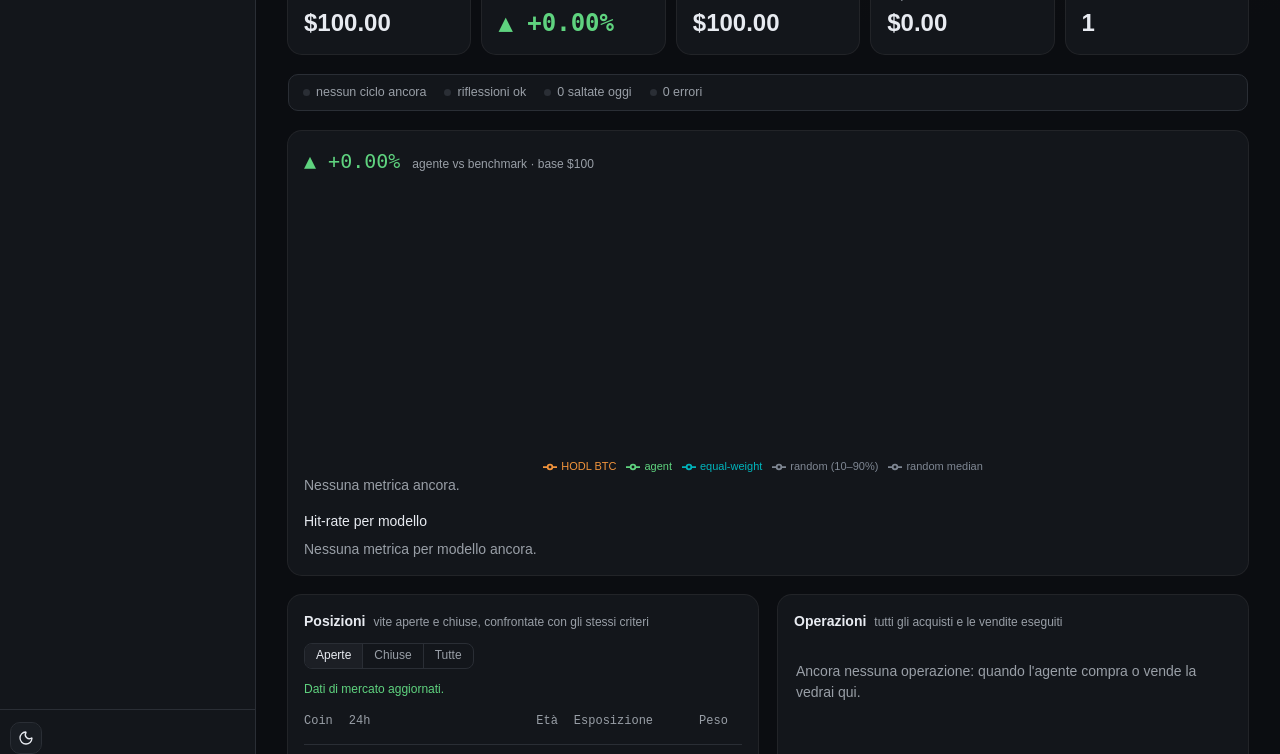
Test: App lifecycle navigation › keeps a selected open control until Escape reveals its closed row and focuses the table
Click the button "Tutte" at (448, 656), box left=423, top=644, right=473, bottom=668
(page scrolled)
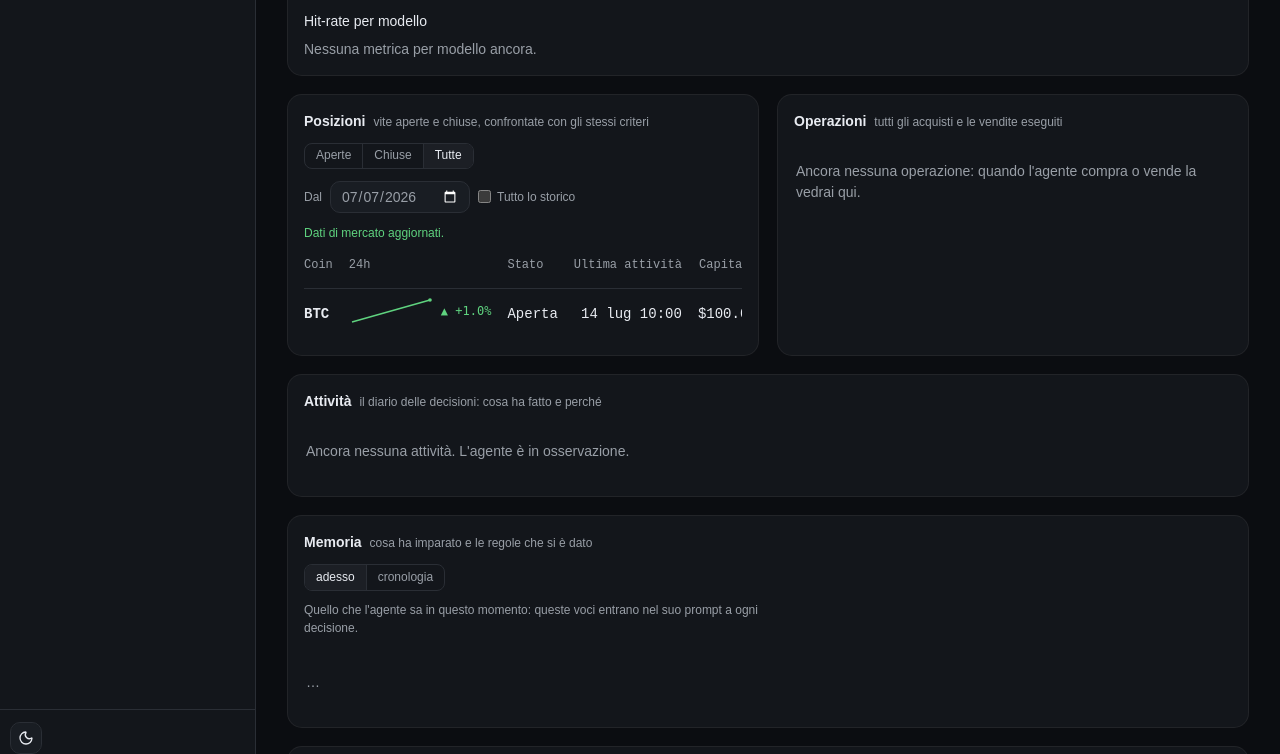
Click the button with aria-label "Apri dettagli BTC" at (317, 314), box left=304, top=304, right=329, bottom=324
Wait 15000 ms
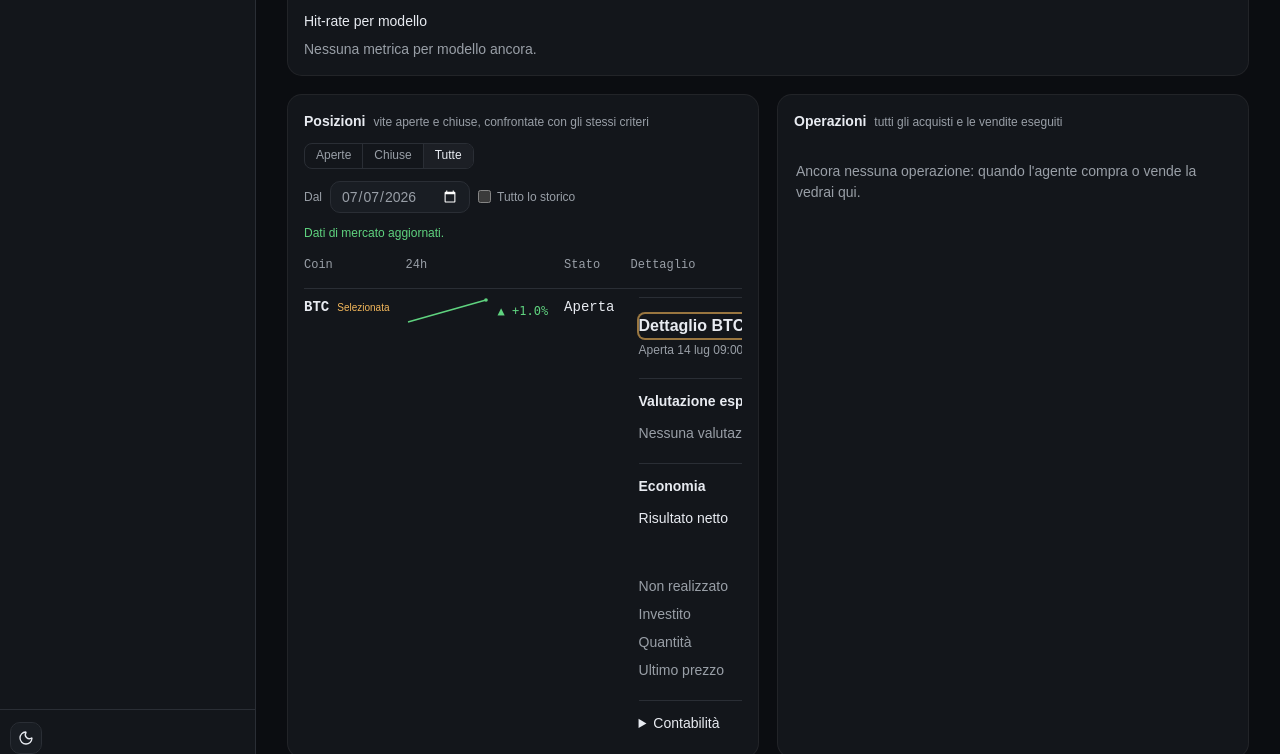
Now the text "Aperta" is shown, box left=556, top=289, right=622, bottom=741
Now the button with aria-label "Apri dettagli BTC" is expanded, box left=304, top=297, right=329, bottom=317
Now the text "Selezionata" is shown, box left=337, top=302, right=390, bottom=313
Press Escape
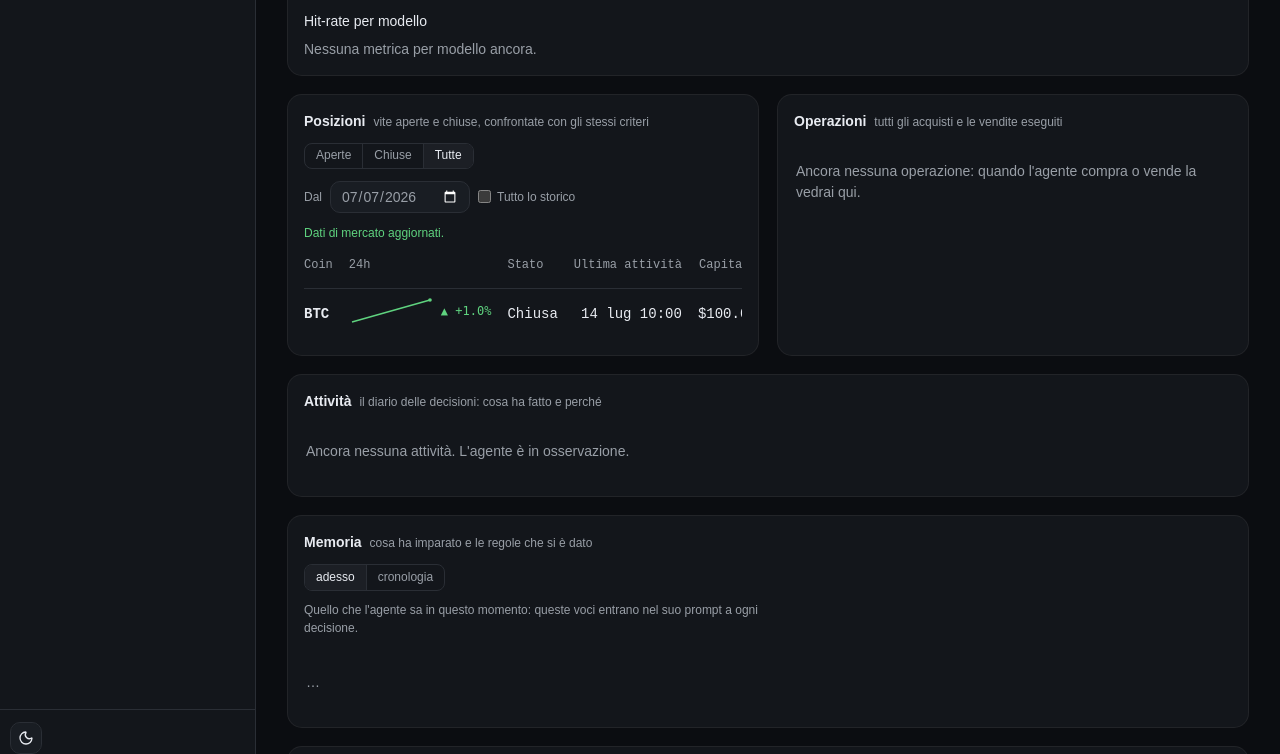
Now the heading "Dettaglio BTC" is gone
Now the text "Chiusa" is shown, box left=499, top=289, right=566, bottom=339
